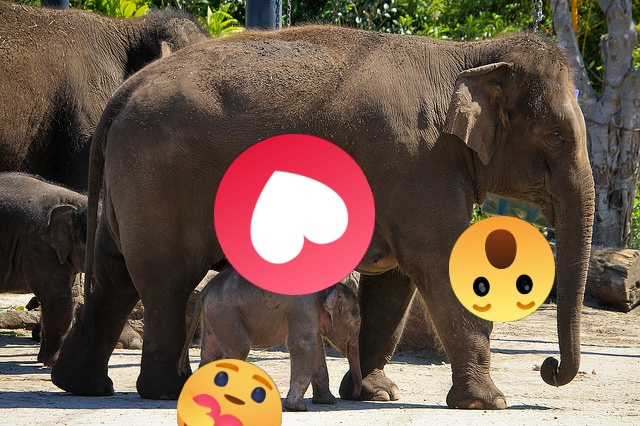care: (177, 359, 282, 426)
love: (214, 134, 375, 295)
wow: (449, 216, 555, 322)
